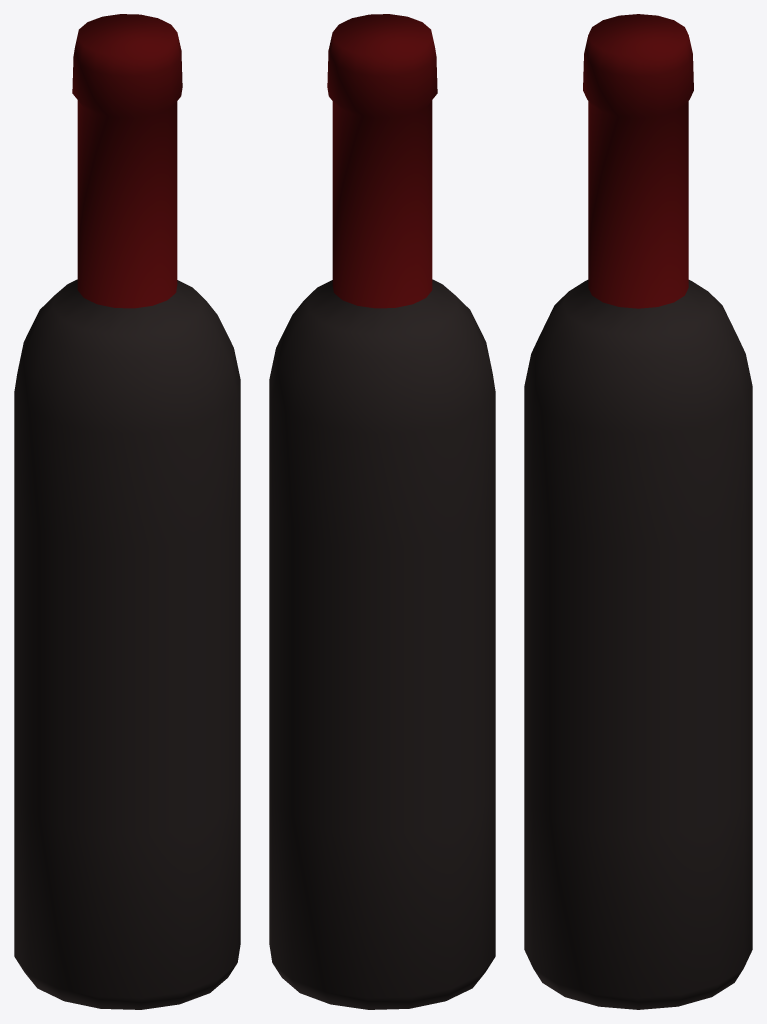
The model's file is Bottle 2.fbx.
3 renders of one model, left to right at view 1: azimuth 30°, elevation 25°; view 2: azimuth 150°, elevation 25°; view 3: azimuth 270°, elevation 25°, orthographic.
Visible parts, largest first — view 1: Bottle 2; view 2: Bottle 2; view 3: Bottle 2.
Part boxes in pixels (box(x1,y1,x2,y2)): Bottle 2: box(14, 14, 240, 1009); Bottle 2: box(269, 14, 495, 1009); Bottle 2: box(524, 14, 752, 1009).
Bounding box in the file's own units: 58.08 × 261 × 58.08.
